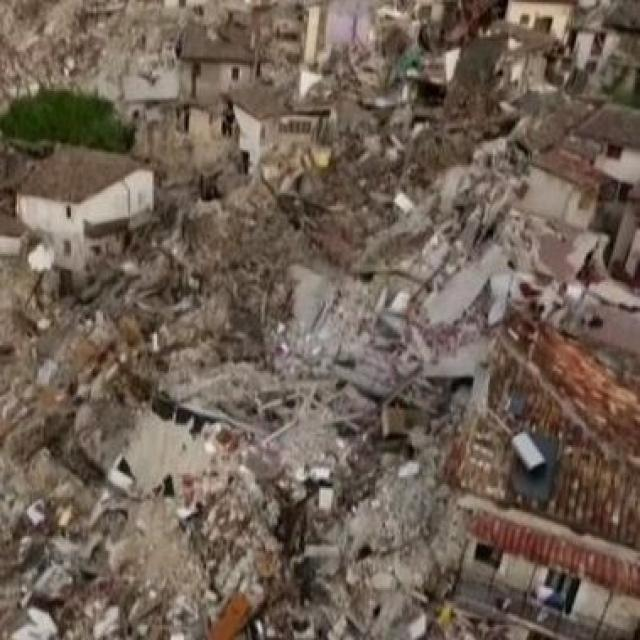collapsed_building: (28, 232, 494, 621), (424, 9, 638, 228)
